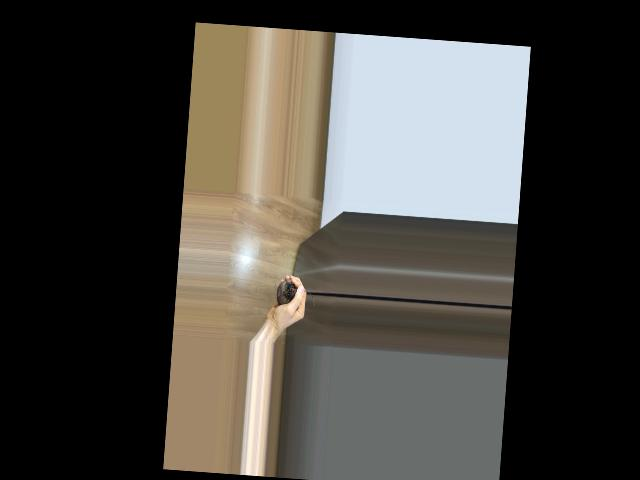beet: (275, 277, 316, 307)
